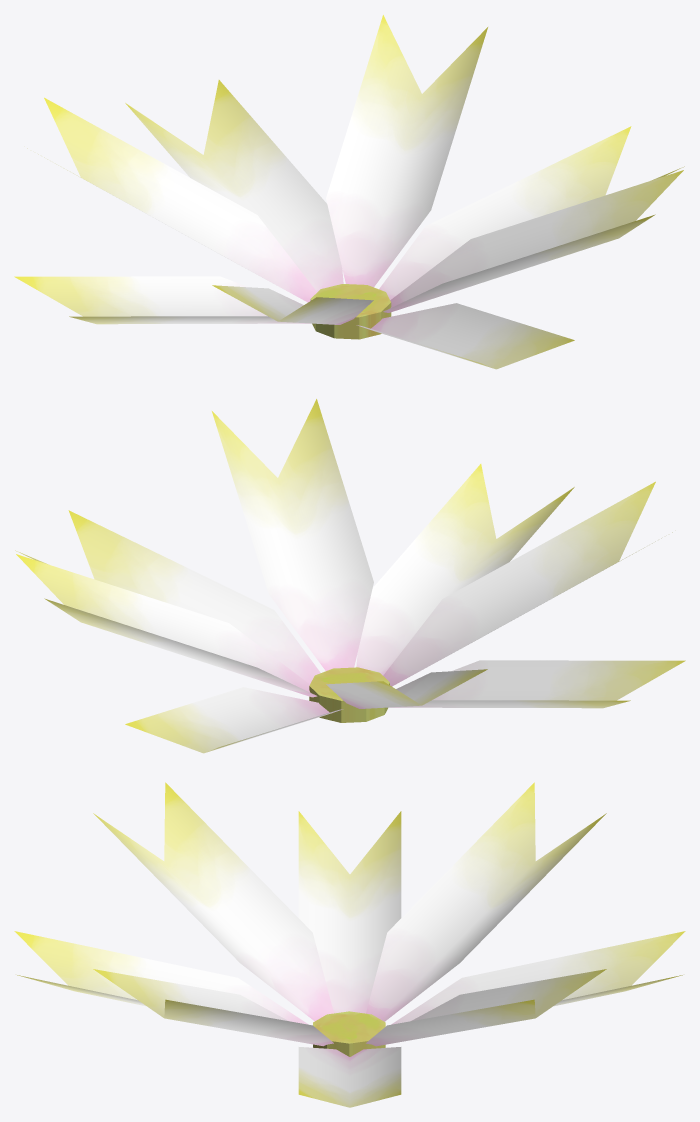
File: Target.fbx
3 views of the same model, one above another, from view 1: azimuth 30°, elevation 25°; view 2: azimuth 150°, elevation 25°; view 3: azimuth 270°, elevation 25° (orthographic). The views are drawn at different scales.
Visible parts, largest first — view 1: pasted__pPlane4, pasted__pPlane6, pasted__pPlane5, pasted__pPlane2, pasted__pPlane3, pasted__pPlane7, pasted__pPlane1, pasted__pPlane8, pCylinder1; view 2: pasted__pPlane2, pasted__pPlane8, pasted__pPlane1, pasted__pPlane4, pasted__pPlane3, pasted__pPlane7, pasted__pPlane5, pasted__pPlane6, pCylinder1; view 3: pasted__pPlane6, pasted__pPlane8, pasted__pPlane7, pasted__pPlane1, pasted__pPlane5, pasted__pPlane4, pasted__pPlane2, pasted__pPlane3, pCylinder1.
Part boxes in pixels (x1,y1,x2,y2): pasted__pPlane4: [326, 15, 487, 287]; pasted__pPlane6: [27, 97, 317, 302]; pasted__pPlane5: [125, 80, 343, 291]; pasted__pPlane2: [383, 170, 683, 312]; pasted__pPlane3: [379, 126, 684, 299]; pasted__pPlane7: [14, 276, 310, 324]; pasted__pPlane1: [356, 303, 574, 369]; pasted__pPlane8: [212, 285, 373, 324]; pCylinder1: [310, 284, 391, 339]; pasted__pPlane2: [212, 399, 373, 670]; pasted__pPlane8: [383, 481, 672, 686]; pasted__pPlane1: [356, 464, 574, 675]; pasted__pPlane4: [16, 554, 317, 697]; pasted__pPlane3: [15, 510, 320, 683]; pasted__pPlane7: [389, 660, 685, 708]; pasted__pPlane5: [125, 687, 343, 753]; pasted__pPlane6: [326, 669, 487, 708]; pCylinder1: [309, 667, 389, 722]; pasted__pPlane6: [366, 782, 606, 1021]; pasted__pPlane8: [93, 782, 333, 1021]; pasted__pPlane7: [298, 811, 401, 1013]; pasted__pPlane1: [14, 931, 308, 1024]; pasted__pPlane5: [391, 931, 685, 1024]; pasted__pPlane4: [366, 969, 606, 1046]; pasted__pPlane2: [93, 969, 333, 1046]; pasted__pPlane3: [298, 1047, 401, 1107]; pCylinder1: [313, 1011, 385, 1056].
Size of the model in its own units: 18.34 by 4.74 by 18.34.
